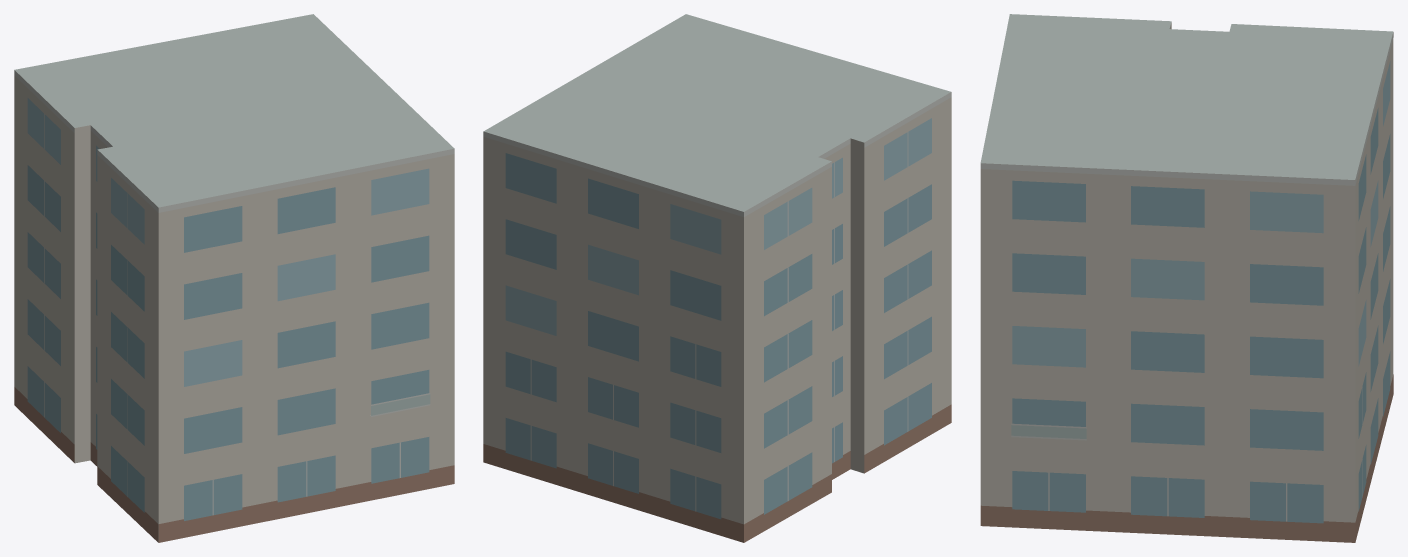
Rendered from survey-upis-32654231.glb.
3 views of the same model, side by side, from view 1: azimuth 30°, elevation 25°; view 2: azimuth 150°, elevation 25°; view 3: azimuth 270°, elevation 25° (orthographic). The views are drawn at different scales.
Parts seen in each view (by area): view 1: survey-upis-32654231.tmp; view 2: survey-upis-32654231.tmp; view 3: survey-upis-32654231.tmp.
Boxes of the visible parts, x1,y1,x2,y2 form: survey-upis-32654231.tmp: [14, 14, 454, 542]; survey-upis-32654231.tmp: [483, 14, 951, 542]; survey-upis-32654231.tmp: [980, 14, 1393, 542].
Bounding box in the file's own units: 14.99 × 15.25 × 15.74.
